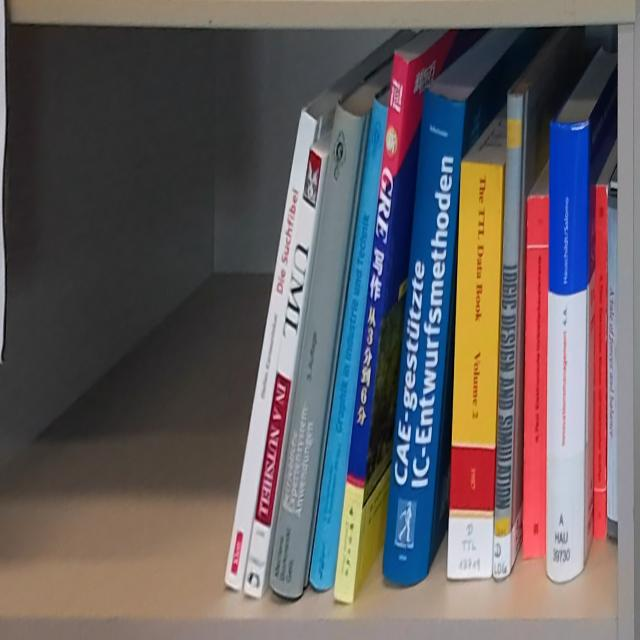Book Spine: (269, 101, 367, 601), (223, 109, 319, 594), (331, 52, 410, 609), (381, 87, 467, 588), (309, 94, 389, 594), (241, 149, 322, 603), (448, 161, 505, 579), (546, 119, 588, 586), (492, 91, 525, 581), (523, 195, 549, 563), (595, 184, 608, 538), (606, 189, 617, 543)
